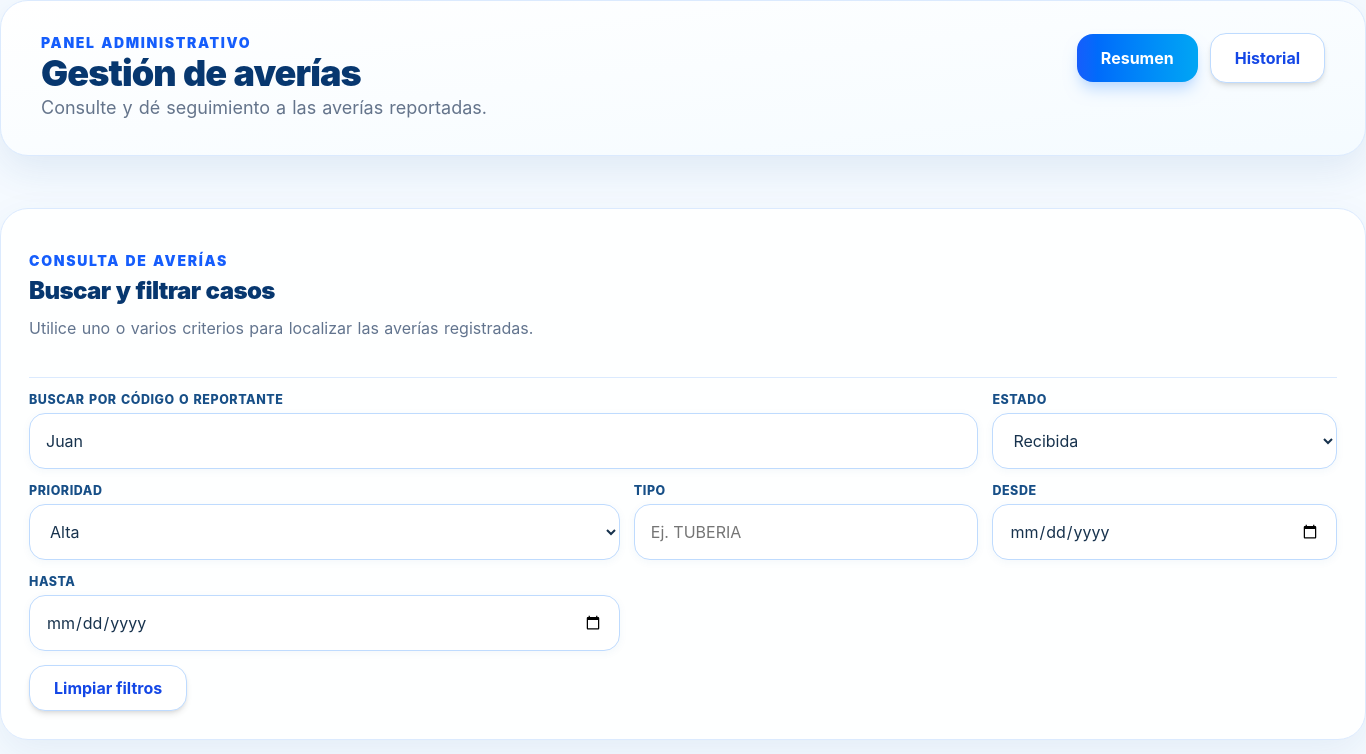
AveriasAdminPage › limpia filtros, vuelve a page 1 y consulta el listado general
The image size is (1366, 754).
Click the button "Limpiar filtros" at coordinates (108, 688), box [29,665,187,711]
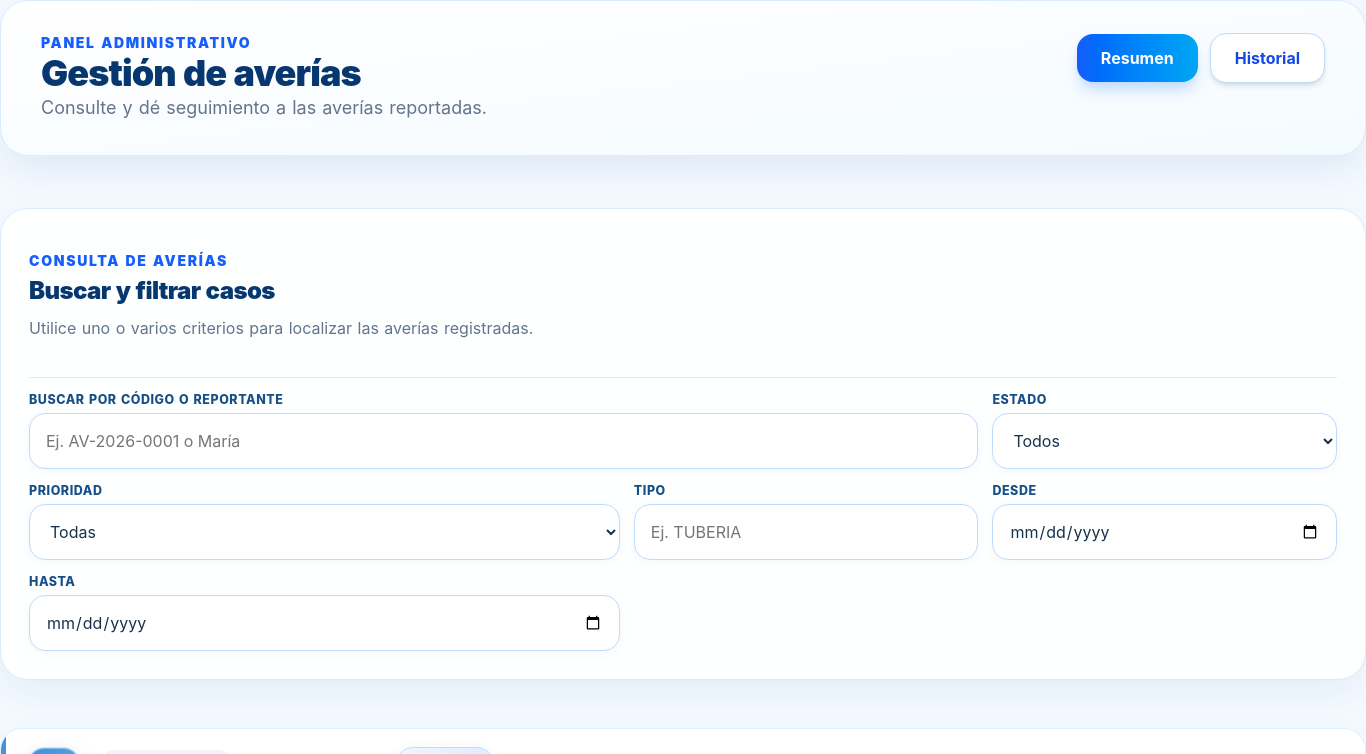
Result: the search field with id "averias-admin-buscar" is empty at [29,413,978,469]
Result: the dropdown with id "averias-admin-estado" shows "Todos" at [992,413,1337,469]
